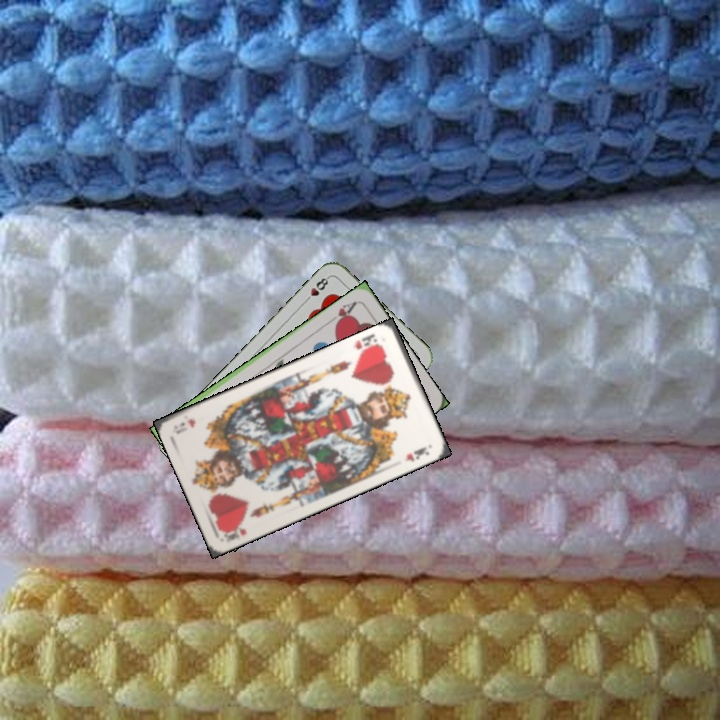H8: (300, 273, 332, 305)
HA: (325, 297, 360, 329)
HK: (350, 329, 384, 357), (218, 519, 249, 545)
